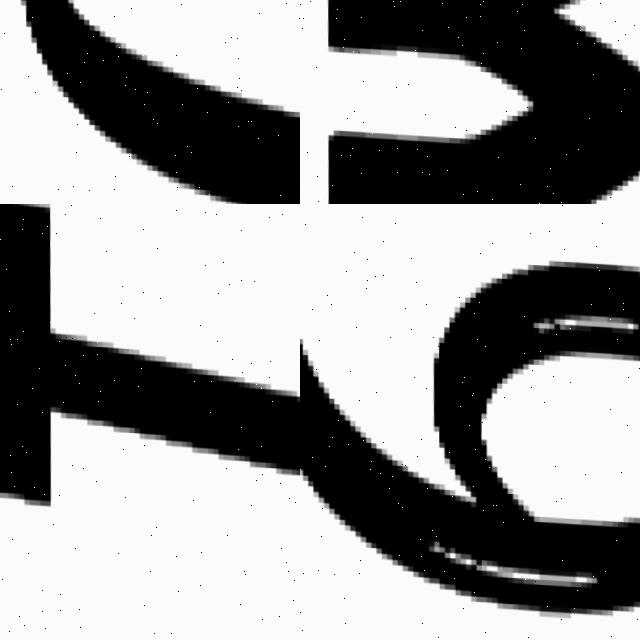0: (0, 0, 300, 204)
6: (300, 214, 640, 633)
F: (0, 204, 300, 533)
W: (300, 0, 640, 204)
